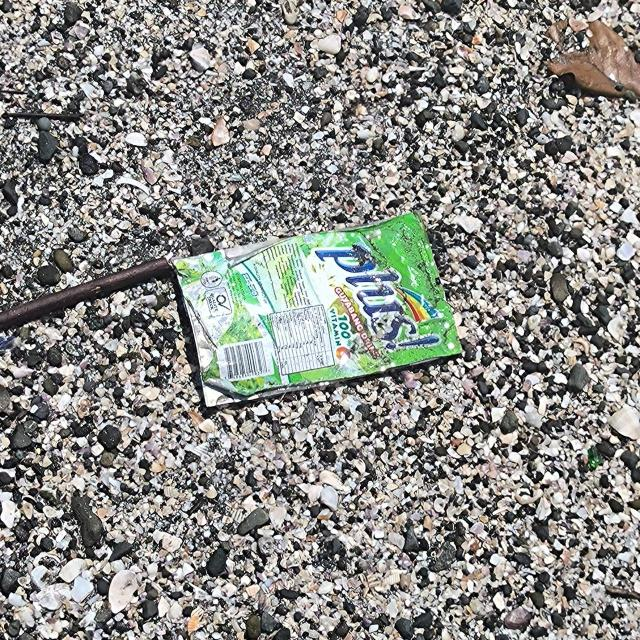plastic_waste: (174, 212, 466, 408)
